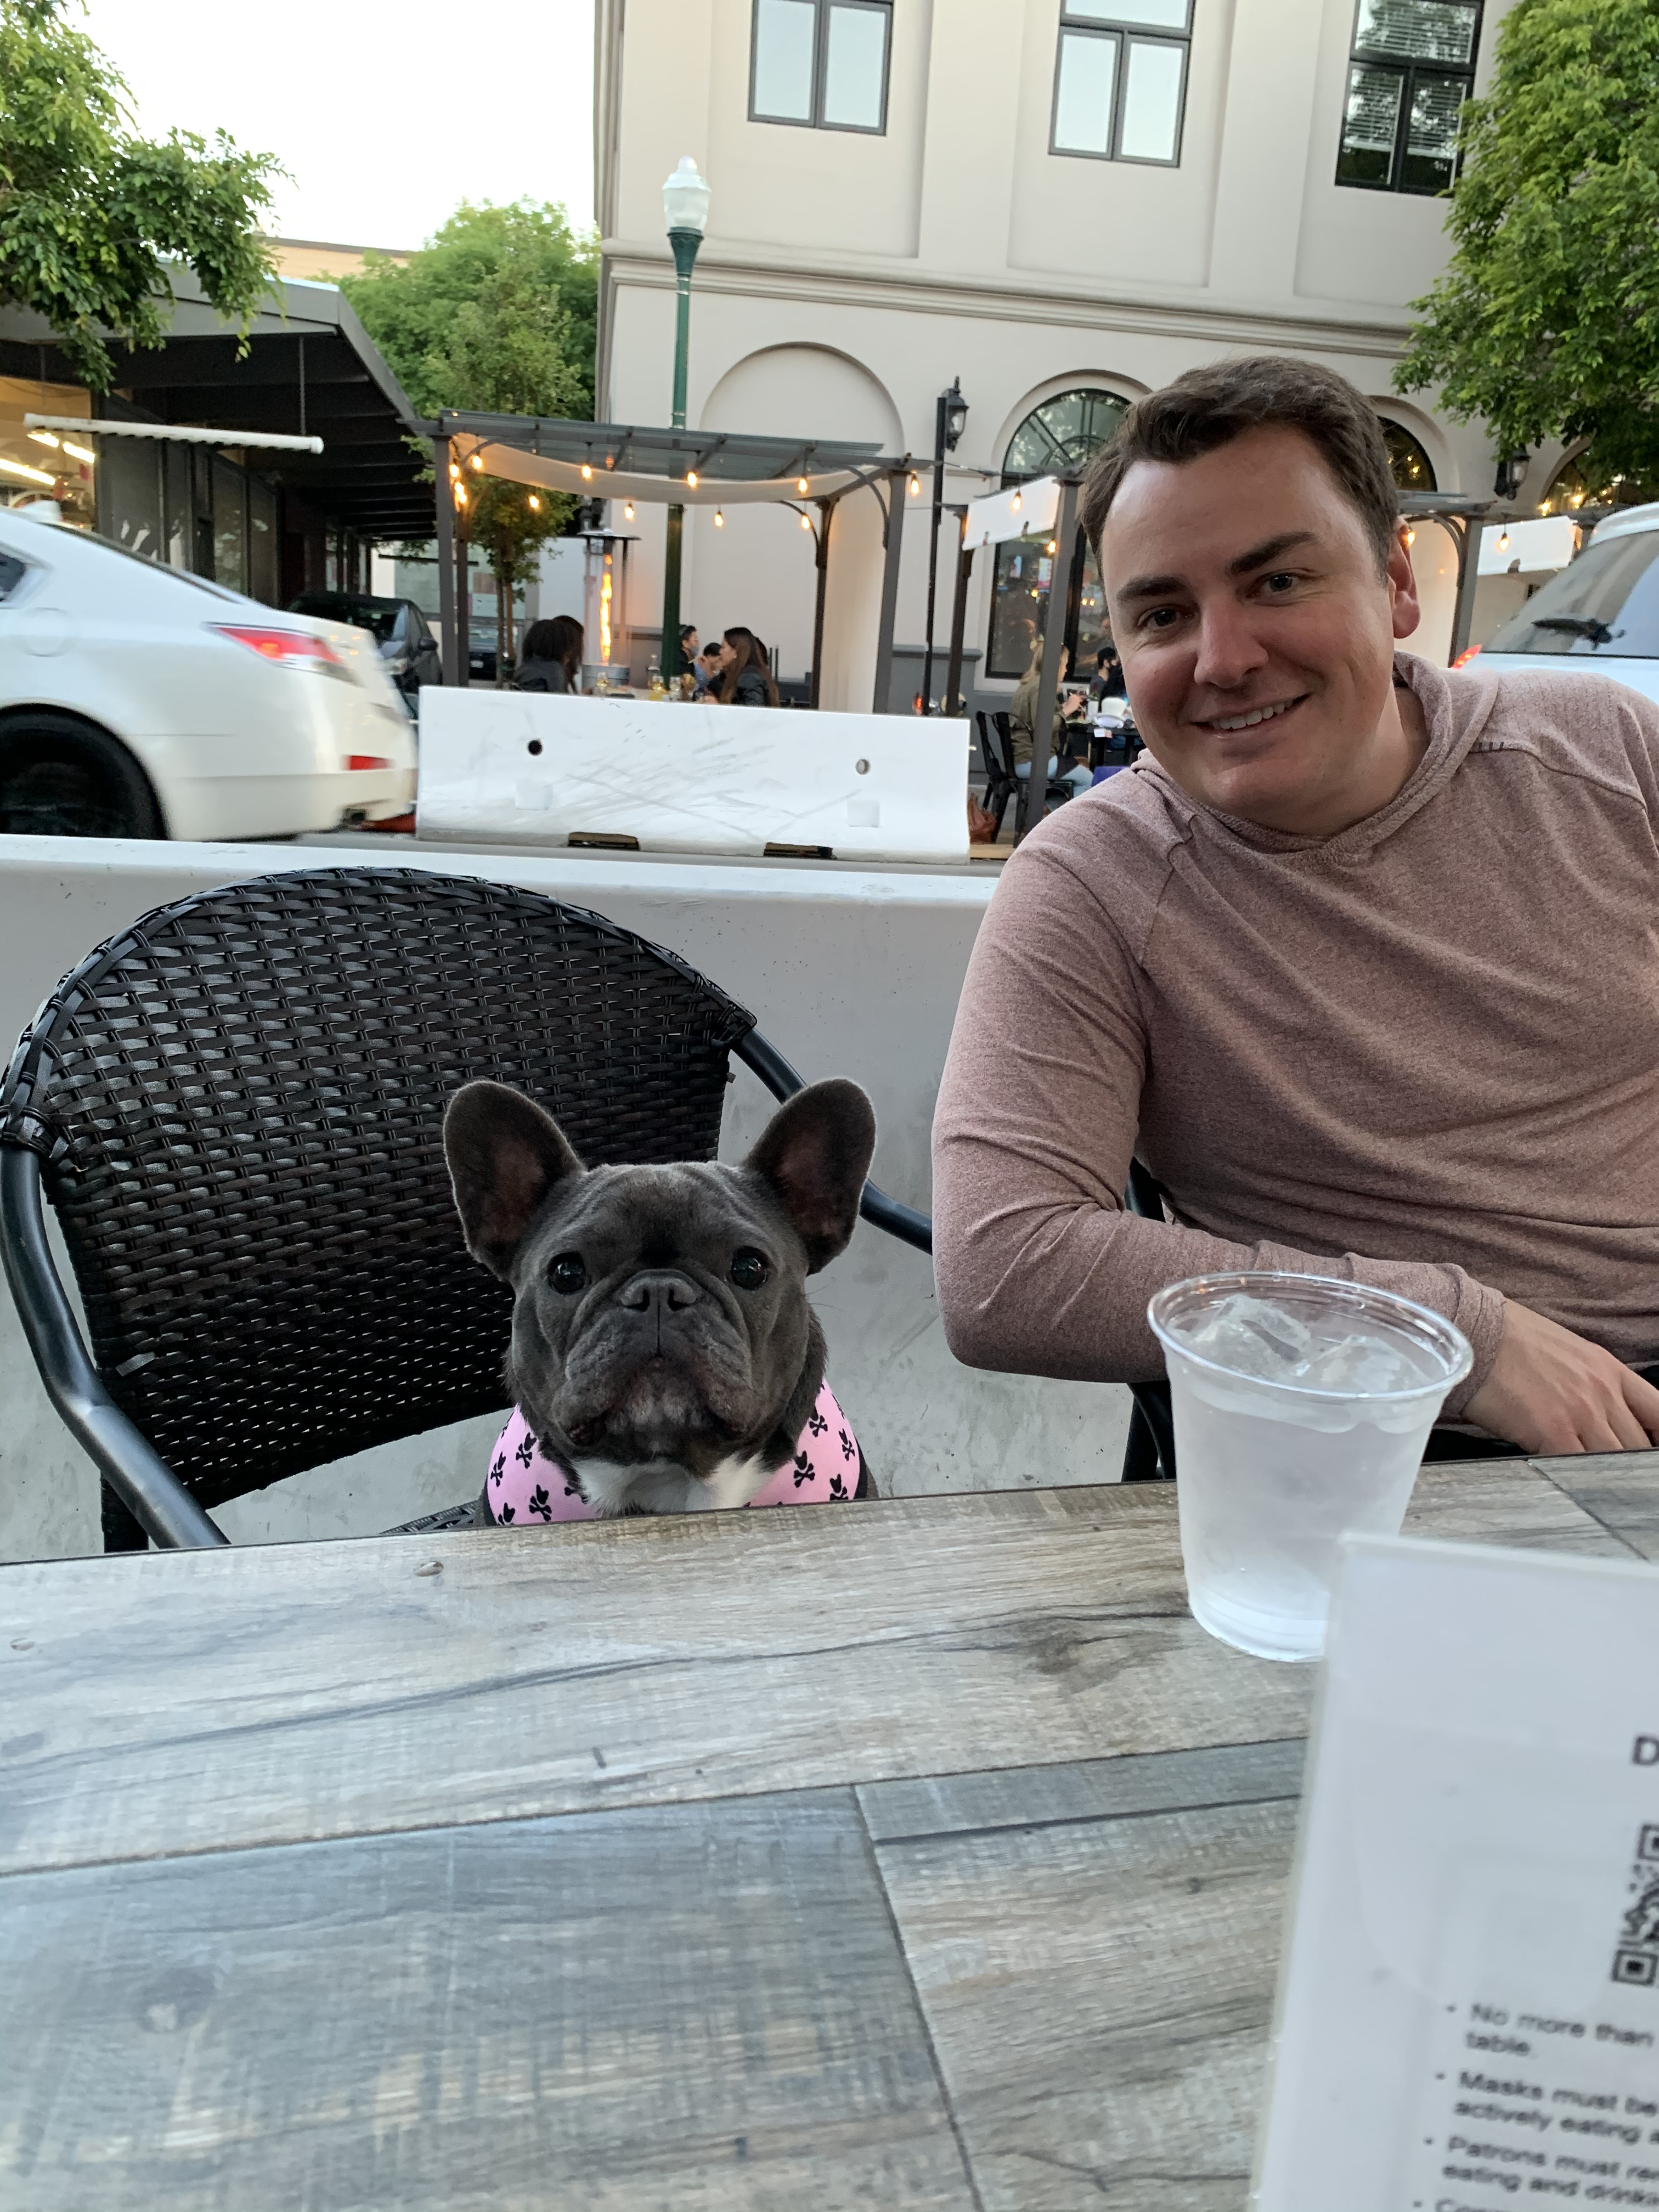lucy: (432, 1068, 887, 1500)
